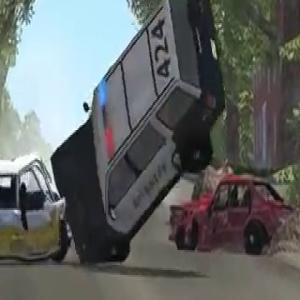fatal: (0, 0, 225, 272)
